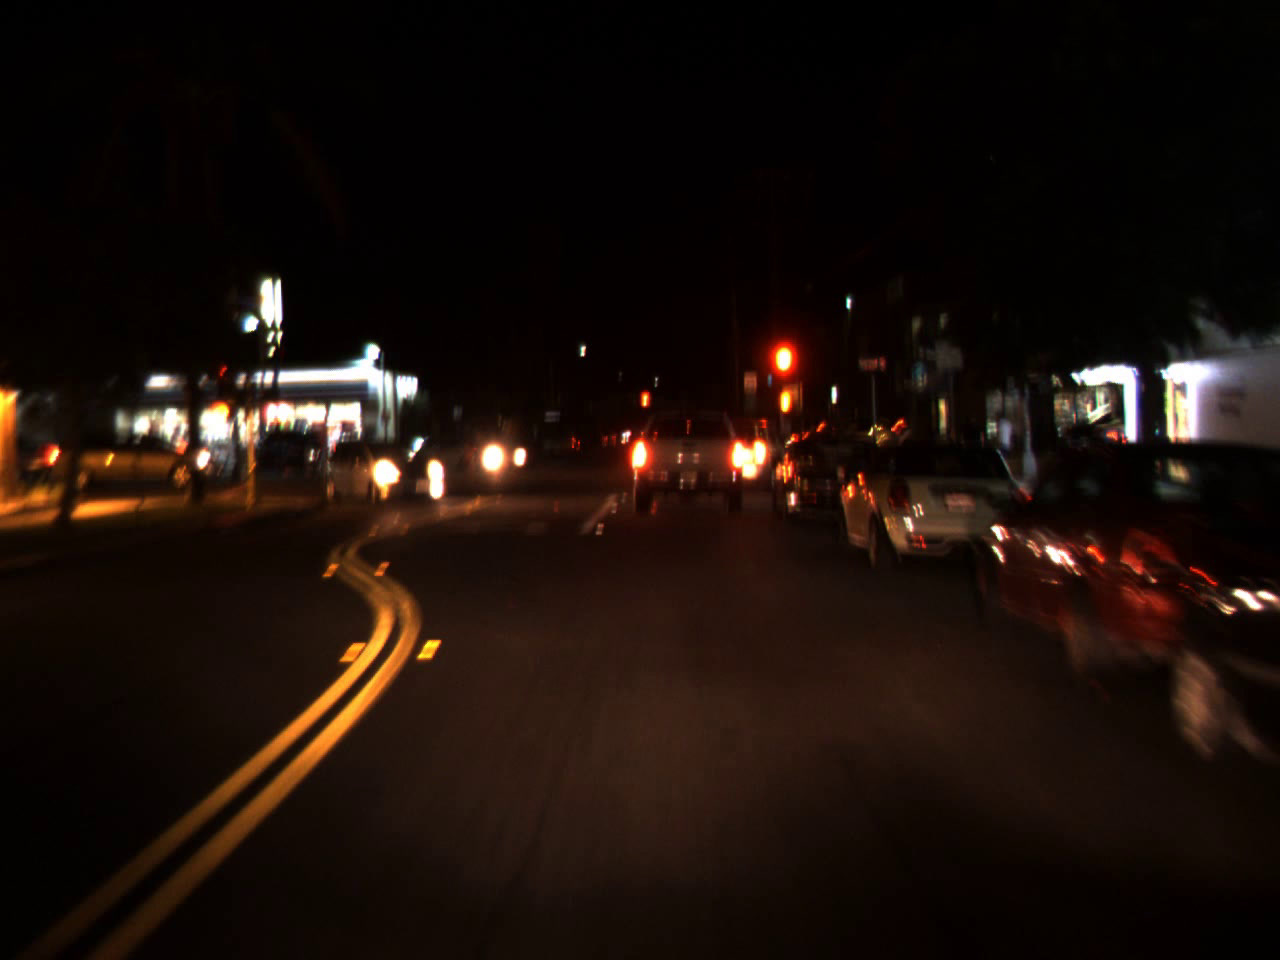stop: (769, 339, 797, 401), (640, 388, 652, 425), (218, 366, 227, 387)
